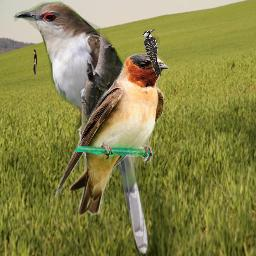Cuckoo: (12, 1, 150, 256)
Swallow: (55, 53, 169, 216)
Woodpecker: (143, 29, 161, 77)
